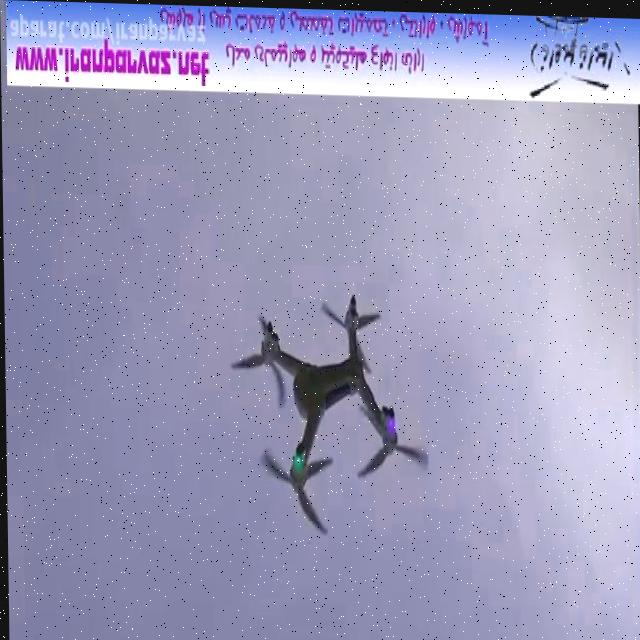drone: (225, 286, 433, 545)
